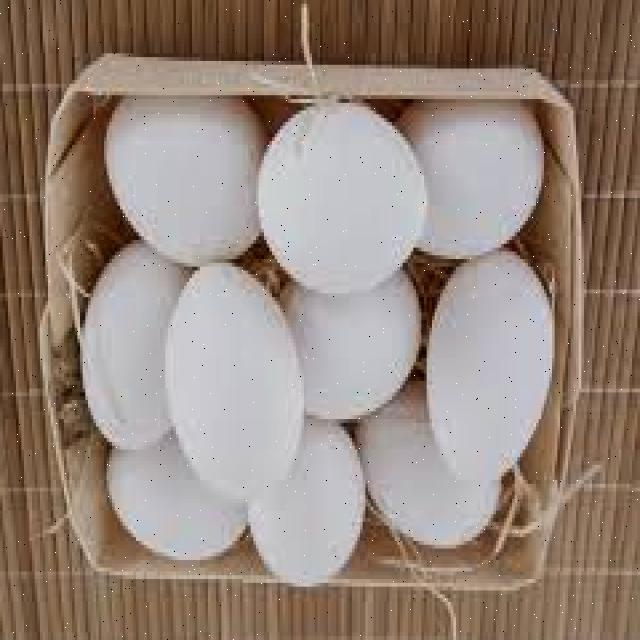White Egg: (165, 260, 313, 509), (253, 96, 429, 298), (428, 251, 563, 486), (97, 96, 266, 266), (396, 95, 551, 268), (364, 391, 504, 551), (85, 250, 184, 456), (250, 422, 363, 589), (106, 433, 246, 566)
